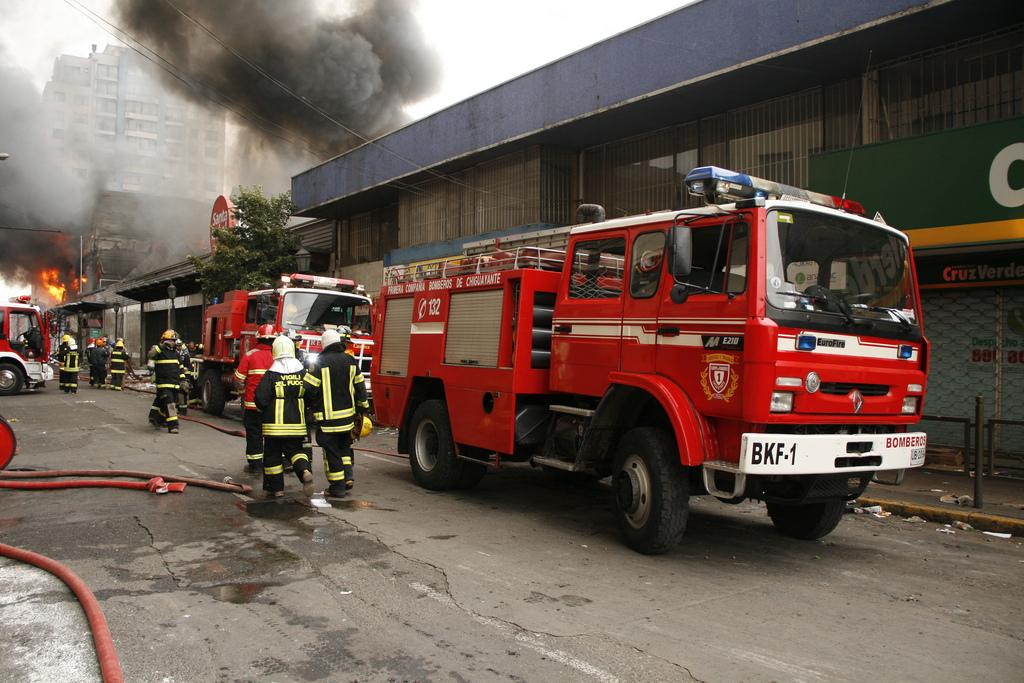fire: (35, 255, 90, 302)
smoke: (208, 5, 397, 113), (5, 118, 95, 223)
